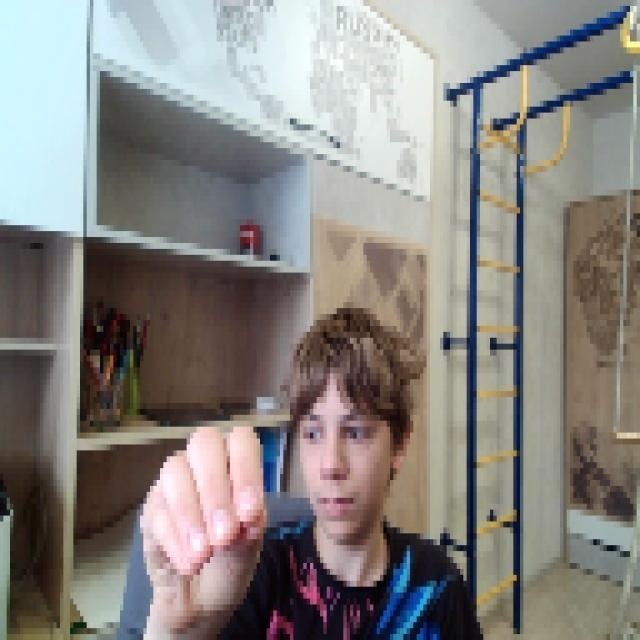left_click: (140, 415, 267, 622)
